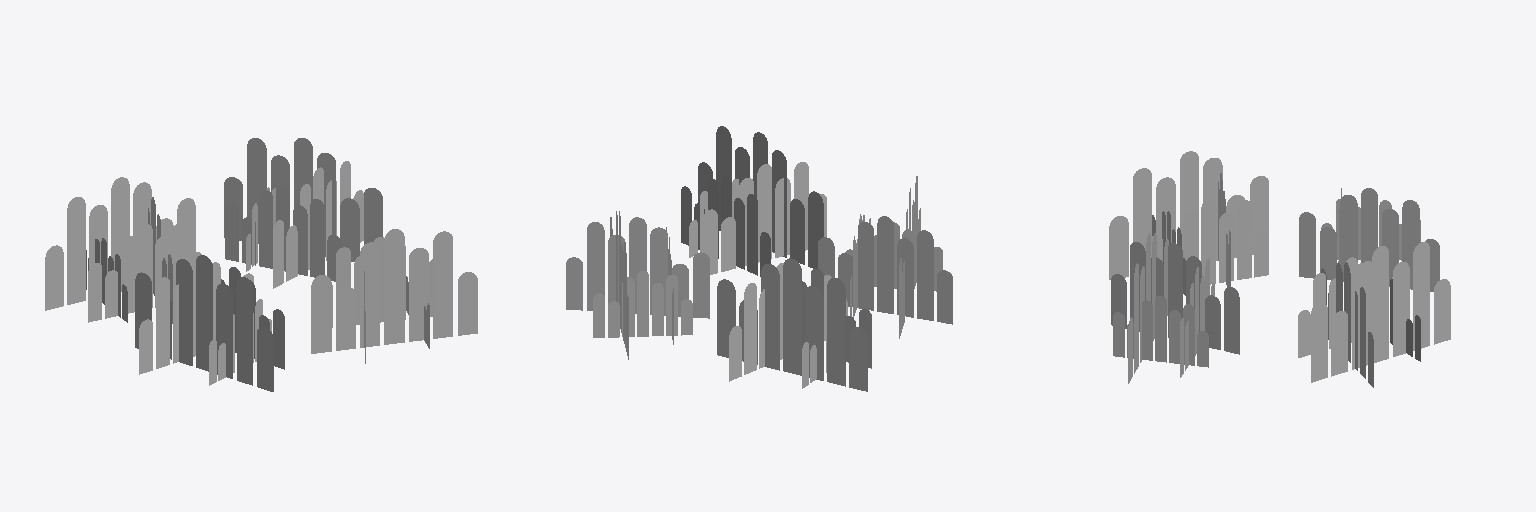
Rendered from lowqualitygrass.obj.
3 renders of one model, left to right at view 1: azimuth 30°, elevation 25°; view 2: azimuth 150°, elevation 25°; view 3: azimuth 270°, elevation 25°, orthographic.
Parts seen in each view (by area): view 1: Plane.013, Plane.017, Plane.005, Plane.009, Plane.012, Plane.008, Plane.019, Plane.011, Plane.016, Plane.020, Plane.018, Plane.006 (+2 smaller); view 2: Plane.005, Plane.019, Plane.011, Plane.013, Plane.015, Plane.010, Plane.016, Plane.007, Plane.008, Plane.009, Plane.017, Plane.014 (+2 smaller); view 3: Plane.009, Plane.017, Plane.007, Plane.015, Plane.020, Plane.014, Plane.013, Plane.011, Plane.012, Plane.016, Plane.006, Plane.010 (+2 smaller).
Part boxes in pixels (bbox=[...]): Plane.013: bbox=[311, 229, 477, 353]; Plane.017: bbox=[135, 255, 273, 391]; Plane.005: bbox=[45, 177, 195, 310]; Plane.009: bbox=[224, 138, 382, 261]; Plane.012: bbox=[225, 185, 341, 281]; Plane.008: bbox=[88, 223, 201, 322]; Plane.019: bbox=[139, 260, 253, 374]; Plane.011: bbox=[273, 161, 363, 288]; Plane.016: bbox=[332, 237, 432, 327]; Plane.020: bbox=[221, 267, 284, 369]; Plane.018: bbox=[209, 299, 271, 385]; Plane.006: bbox=[86, 238, 127, 322]; Plane.005: bbox=[717, 258, 867, 391]; Plane.019: bbox=[818, 216, 952, 324]; Plane.011: bbox=[566, 217, 709, 318]; Plane.013: bbox=[698, 126, 823, 268]; Plane.015: bbox=[703, 162, 826, 274]; Plane.010: bbox=[593, 271, 692, 337]; Plane.016: bbox=[681, 176, 770, 276]; Plane.007: bbox=[729, 263, 831, 381]; Plane.008: bbox=[802, 268, 871, 368]; Plane.009: bbox=[610, 211, 628, 359]; Plane.017: bbox=[899, 176, 920, 338]; Plane.014: bbox=[689, 179, 738, 257]; Plane.009: bbox=[1311, 242, 1450, 382]; Plane.017: bbox=[1109, 151, 1268, 279]; Plane.007: bbox=[1299, 188, 1439, 291]; Plane.015: bbox=[1111, 242, 1239, 354]; Plane.020: bbox=[1151, 199, 1268, 284]; Plane.014: bbox=[1113, 296, 1208, 367]; Plane.013: bbox=[1128, 233, 1168, 383]; Plane.011: bbox=[1321, 262, 1373, 387]; Plane.012: bbox=[1298, 257, 1392, 357]; Plane.016: bbox=[1180, 258, 1214, 377]; Plane.006: bbox=[1321, 199, 1420, 260]; Plane.010: bbox=[1390, 279, 1420, 361].
Size of the model in its own units: 6.72 by 2.38 by 6.41.